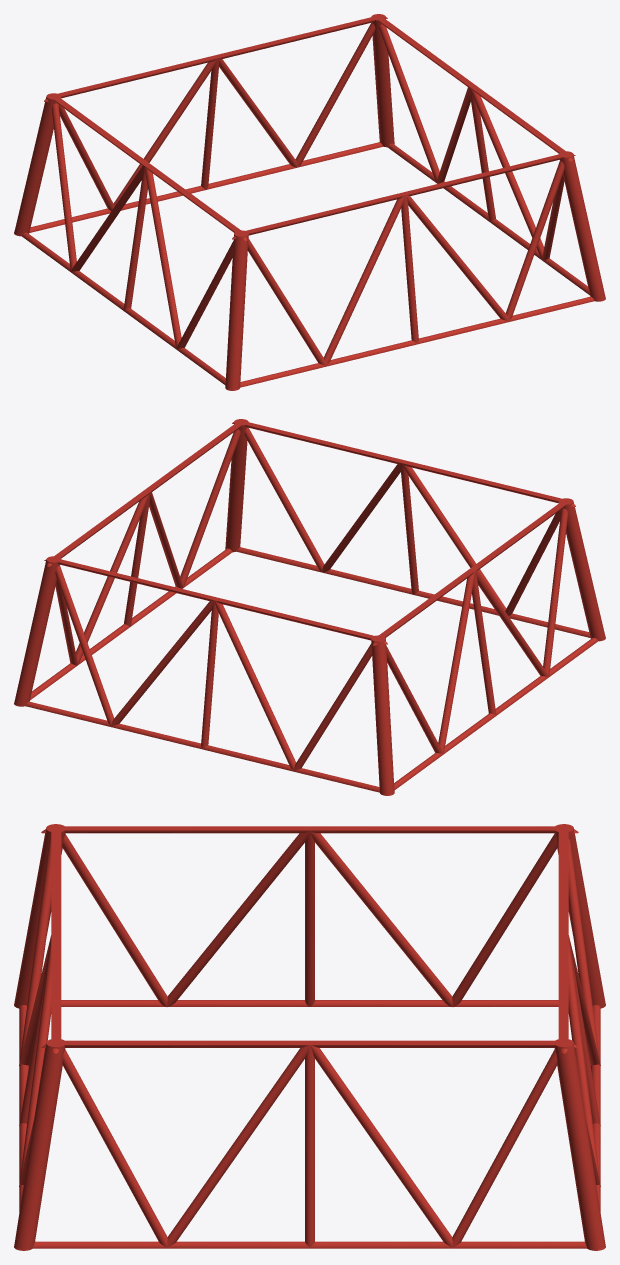
3 views of the same model, one above another, from view 1: azimuth 30°, elevation 25°; view 2: azimuth 150°, elevation 25°; view 3: azimuth 270°, elevation 25° (orthographic). The views are drawn at different scales.
Parts seen in each view (by area): view 1: H6-H7; view 2: H6-H7; view 3: H6-H7.
Boxes of the visible parts, left/top/right/bottom form: H6-H7: left=14, top=14, right=605, bottom=390; H6-H7: left=14, top=419, right=605, bottom=795; H6-H7: left=14, top=824, right=605, bottom=1250.
Bounding box in the file's own units: 29.62 × 10.5 × 29.62.
